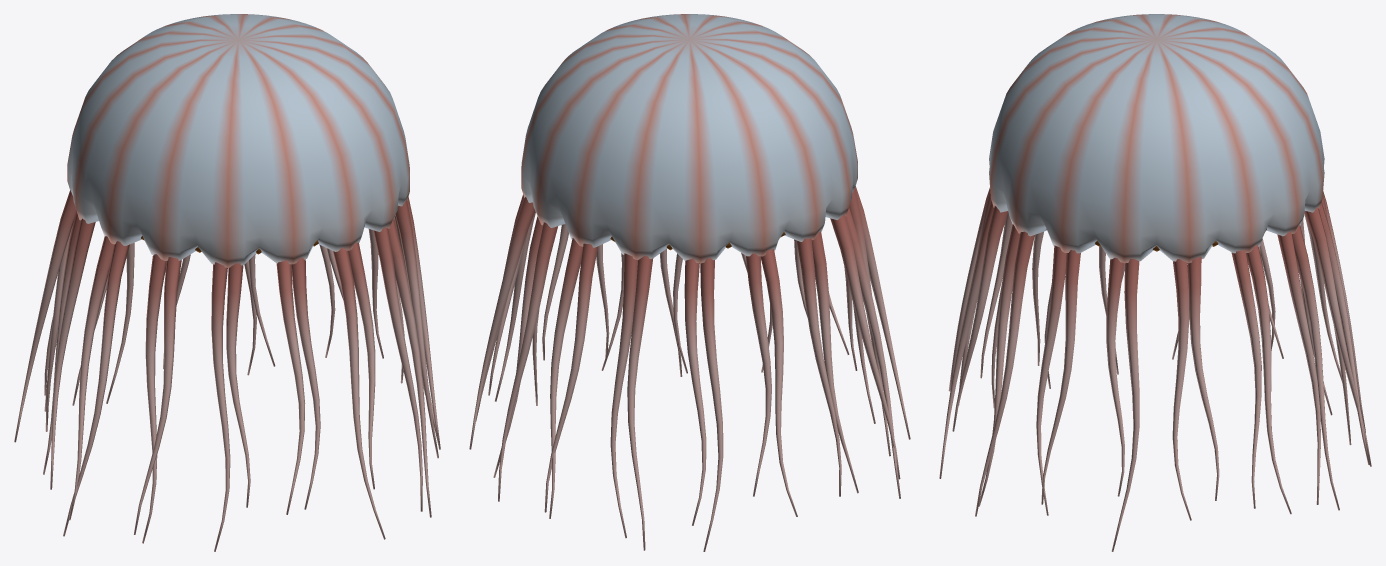
File: Yunnanoascus.fbx
The picture shows the model from 3 angles, left to right: view 1: azimuth 30°, elevation 25°; view 2: azimuth 150°, elevation 25°; view 3: azimuth 270°, elevation 25°; orthographic projection.
Parts seen in each view (by area): view 1: Yunnanoascus; view 2: Yunnanoascus; view 3: Yunnanoascus.
Boxes of the visible parts, x1,y1,x2,y2 form: Yunnanoascus: [14, 14, 440, 551]; Yunnanoascus: [469, 14, 910, 551]; Yunnanoascus: [939, 14, 1371, 551].
Bounding box in the file's own units: 1.34 × 1.48 × 1.35.
